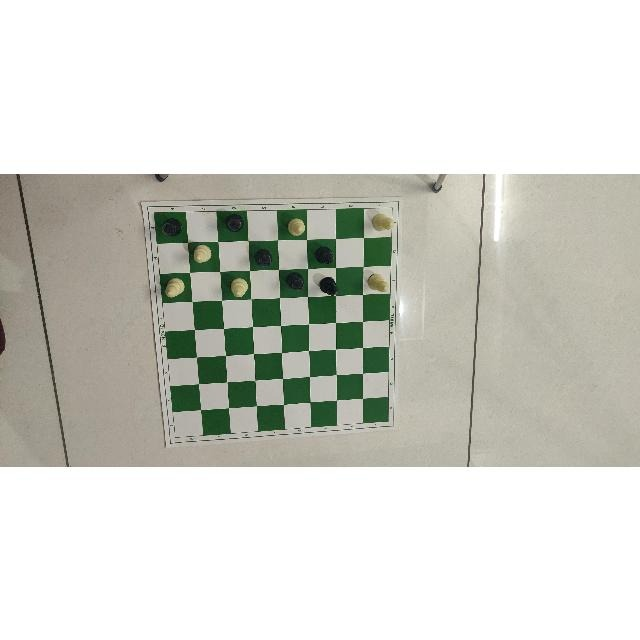black-bishop: (158, 213, 187, 241), (219, 210, 248, 236), (249, 243, 277, 268), (283, 265, 307, 293), (310, 239, 335, 265), (317, 273, 342, 299)
white-bishop: (368, 209, 395, 236), (367, 268, 391, 298), (188, 241, 213, 268), (160, 271, 185, 297), (225, 271, 248, 299), (286, 214, 307, 240)
